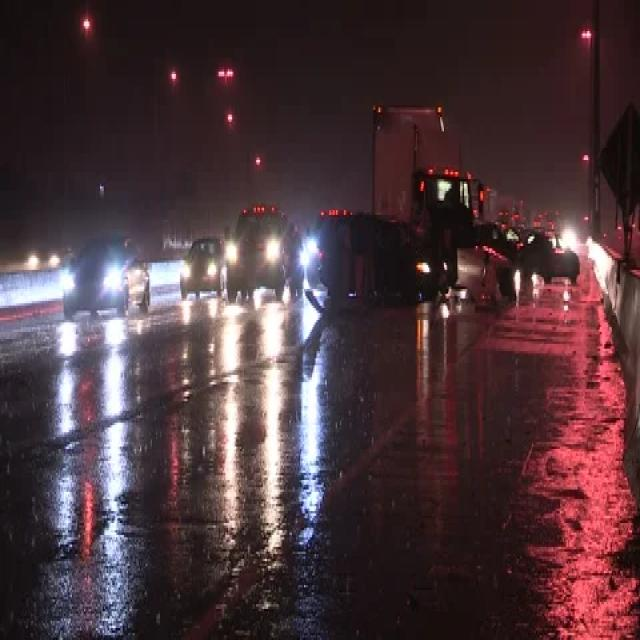Accident: (311, 96, 522, 336)
